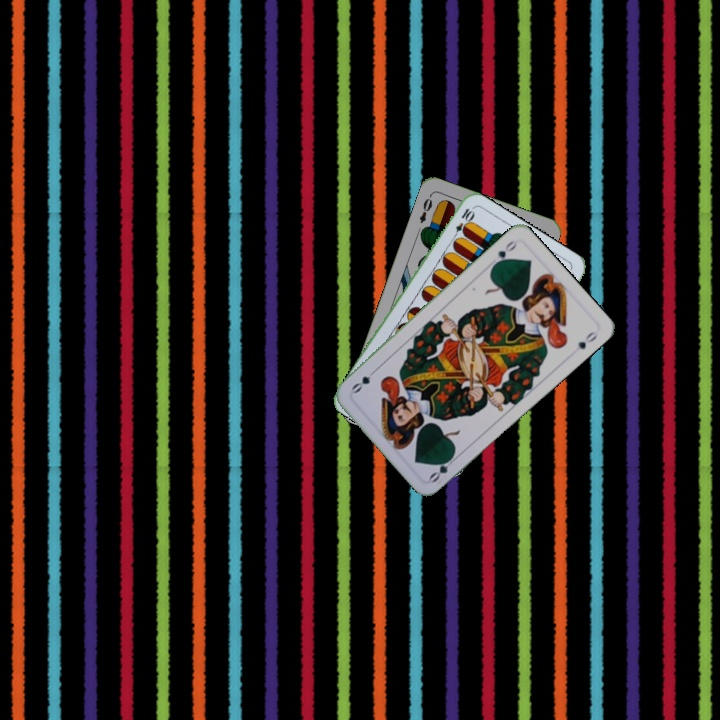E10: (448, 204, 476, 243)
EO: (415, 191, 435, 226)
GO: (425, 450, 460, 485), (489, 236, 520, 270)
